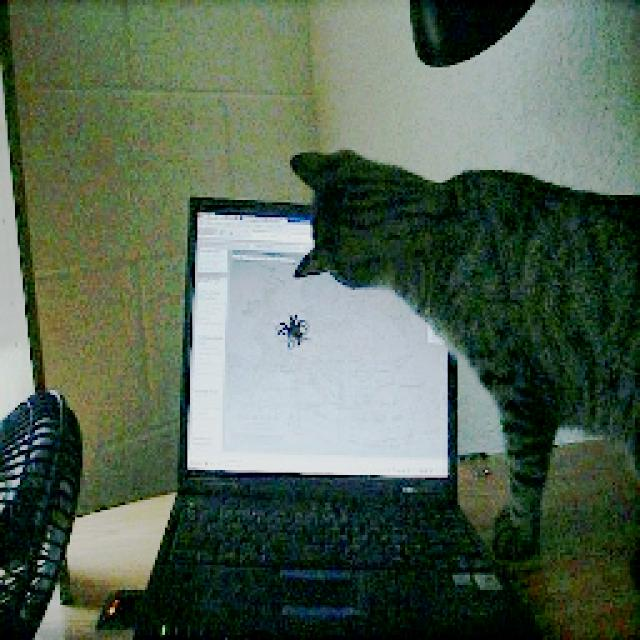cat: (284, 78, 640, 588)
